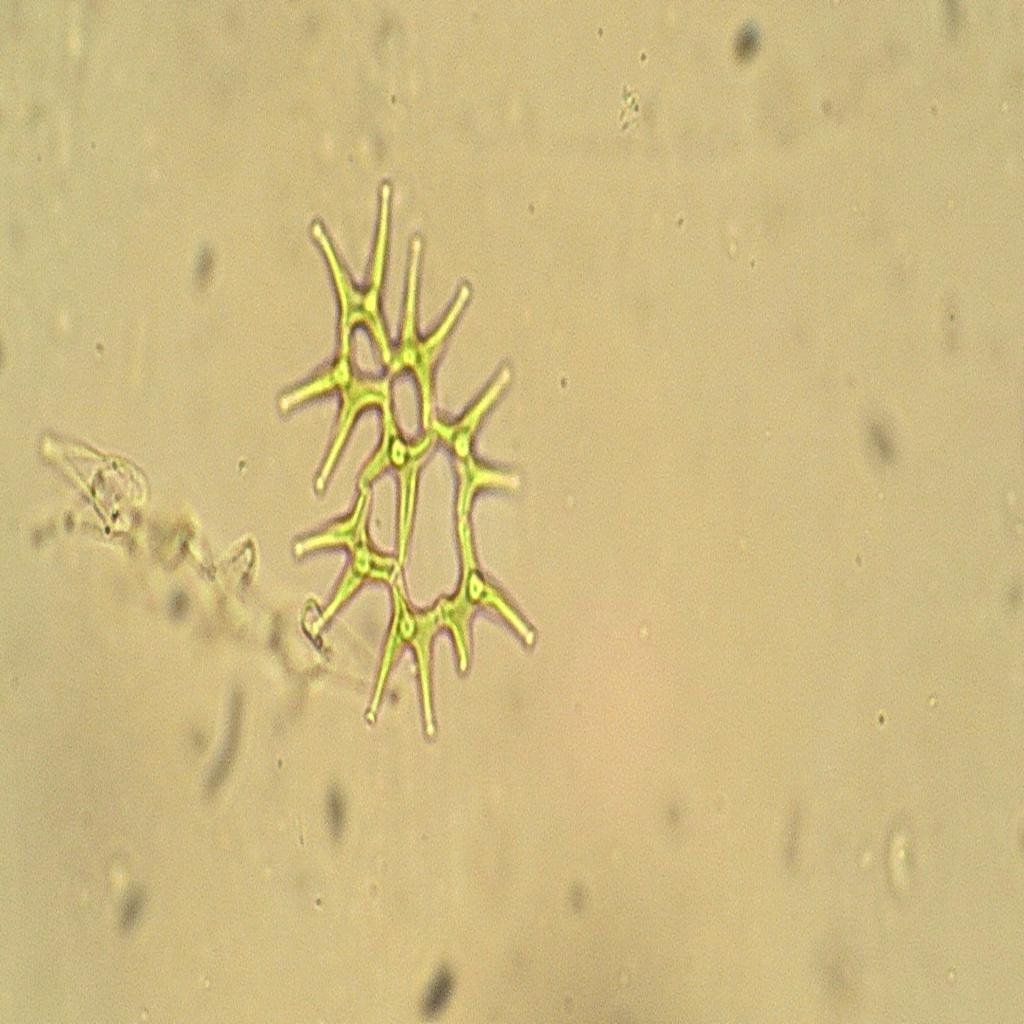Pediastrum_CFI: (274, 152, 554, 750)
